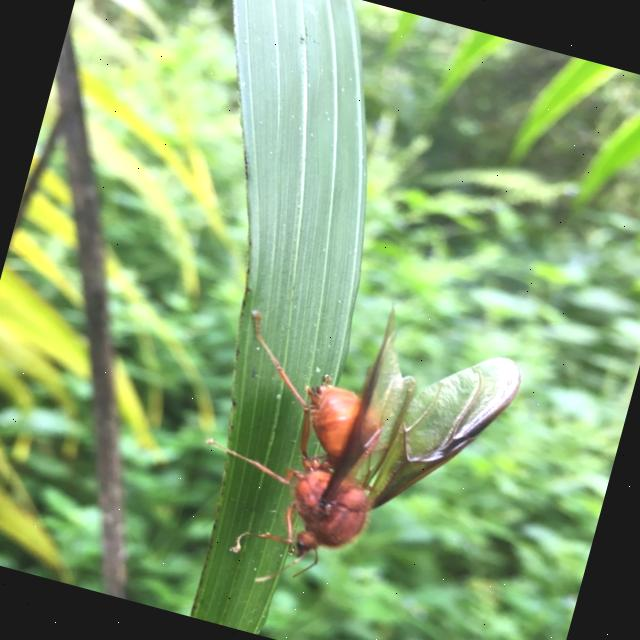Alive-Male-Alate: (171, 264, 533, 636)
